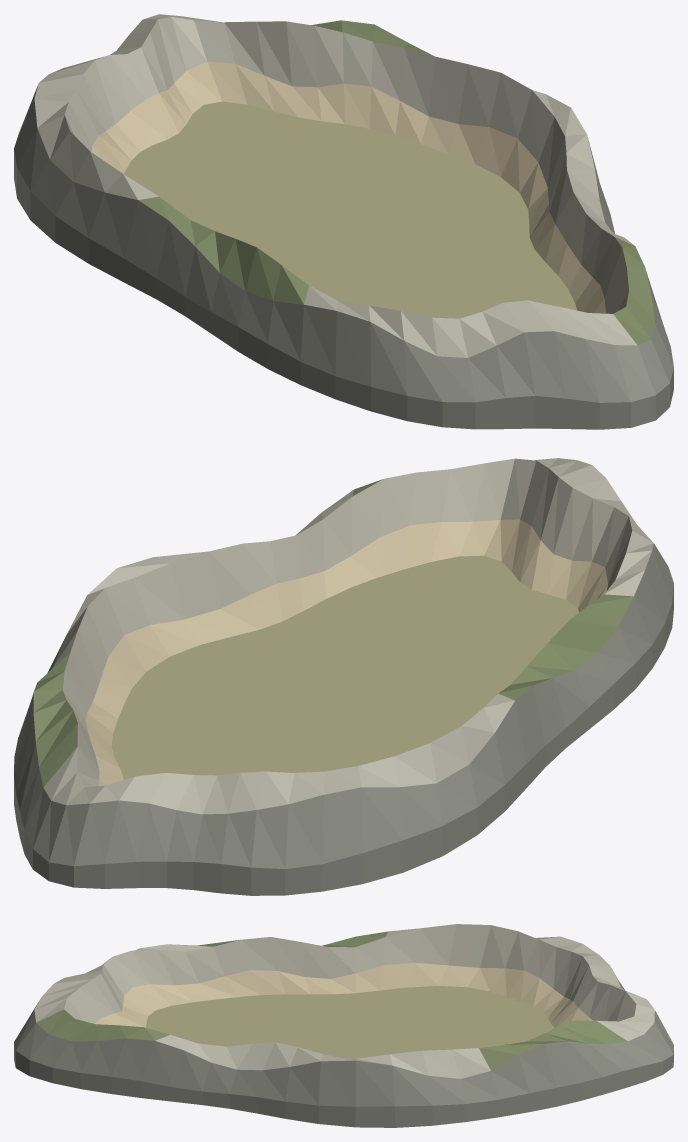
File: karst-polje.glb
The picture shows the model from 3 angles, top to bottom: view 1: azimuth 30°, elevation 25°; view 2: azimuth 150°, elevation 25°; view 3: azimuth 270°, elevation 25°; orthographic projection. The views are drawn at different scales.
Parts seen in each view (by area): view 1: enclosed-carbonate-slopes-flat-sediment-basin; view 2: enclosed-carbonate-slopes-flat-sediment-basin; view 3: enclosed-carbonate-slopes-flat-sediment-basin.
Boxes of the visible parts, box(x1,y1,x2,y2) form: enclosed-carbonate-slopes-flat-sediment-basin: box(14, 14, 673, 429); enclosed-carbonate-slopes-flat-sediment-basin: box(14, 458, 673, 895); enclosed-carbonate-slopes-flat-sediment-basin: box(14, 924, 673, 1127).
Bounding box in the file's own units: 1151 × 236 × 2152.
